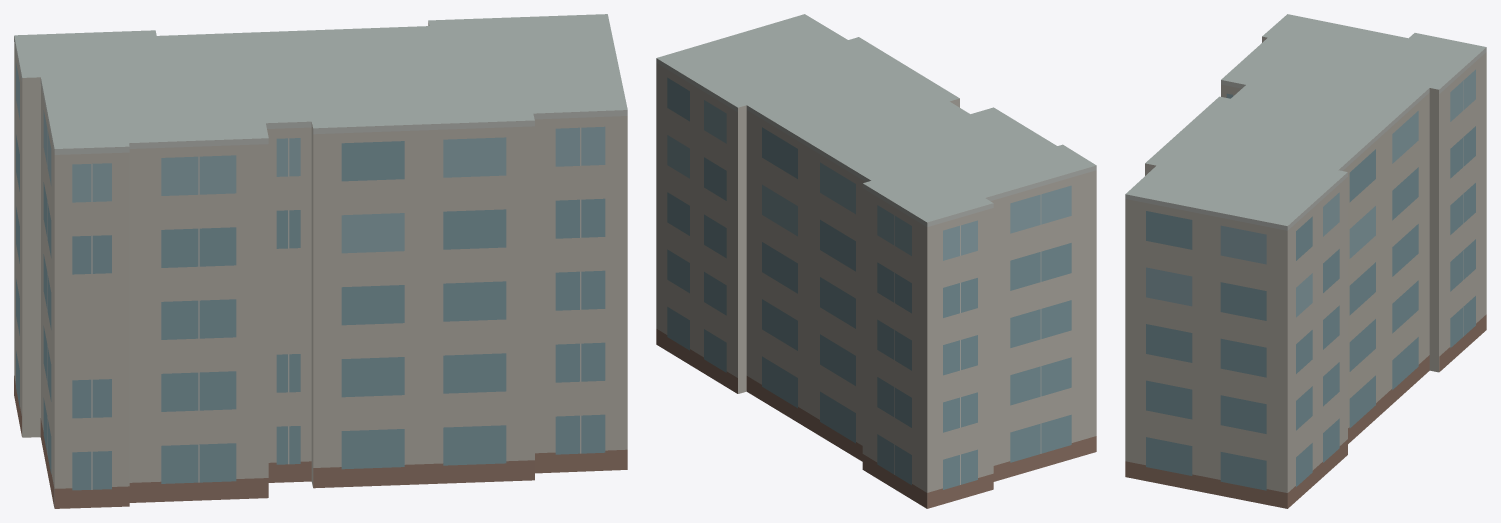
Rendered from survey-upis-32894013.glb.
3 renders of one model, left to right at view 1: azimuth 30°, elevation 25°; view 2: azimuth 150°, elevation 25°; view 3: azimuth 270°, elevation 25°, orthographic. The views are drawn at different scales.
Parts seen in each view (by area): view 1: survey-upis-32894013.tmp; view 2: survey-upis-32894013.tmp; view 3: survey-upis-32894013.tmp.
Part boxes in pixels (x1,y1,x2,y2): survey-upis-32894013.tmp: [14, 14, 627, 508]; survey-upis-32894013.tmp: [656, 14, 1096, 508]; survey-upis-32894013.tmp: [1125, 14, 1486, 508].
Size of the model in its own units: 23.83 by 14.8 by 17.15.
